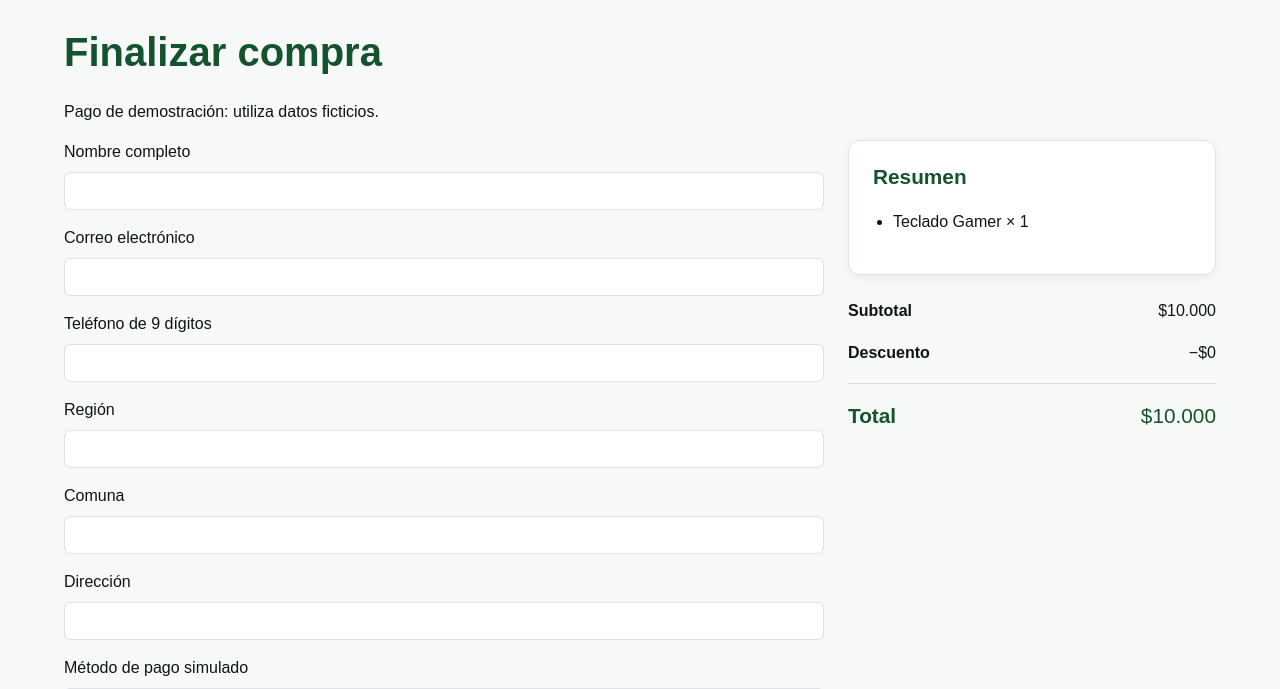
Test: Interfaz de Usuario - Componente Checkout › Debería mostrar mensajes de error cuando los formatos de correo y teléfono sean inválidos
In the field labelled "Correo electrónico": (444, 277) [64, 258, 824, 296], type "correo-invalido"
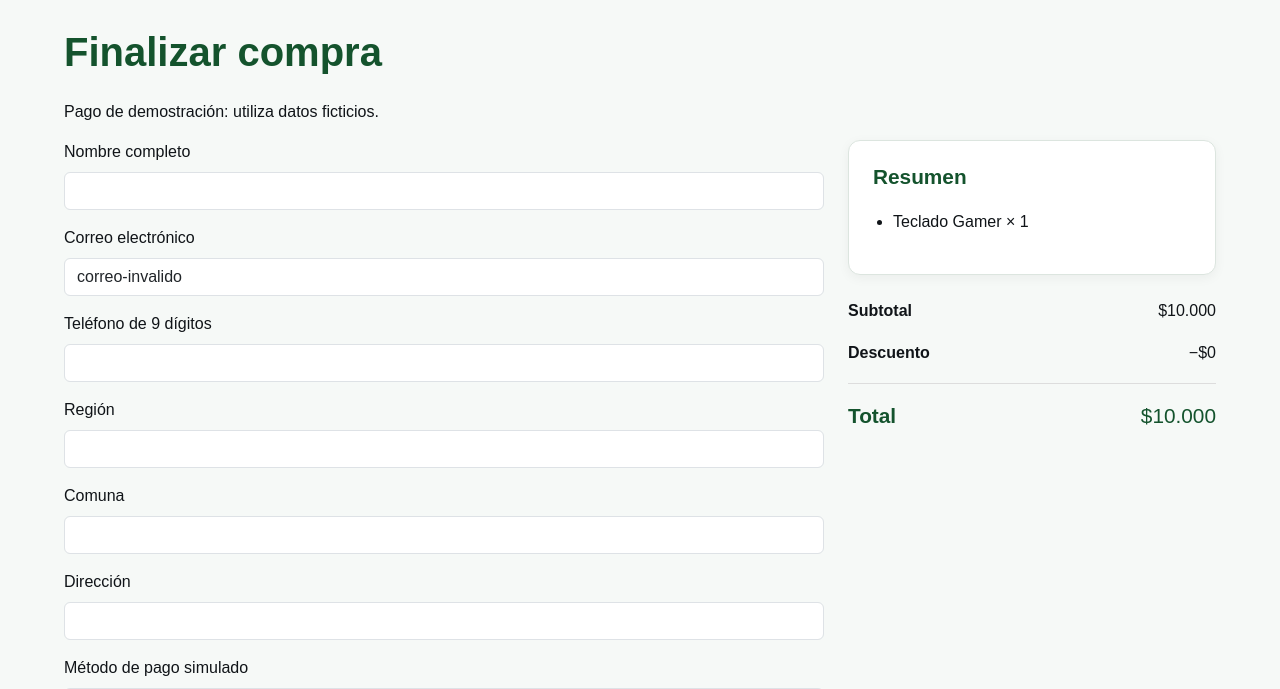
In the field labelled "Teléfono de 9 dígitos": (444, 363) [64, 344, 824, 382], type "123"
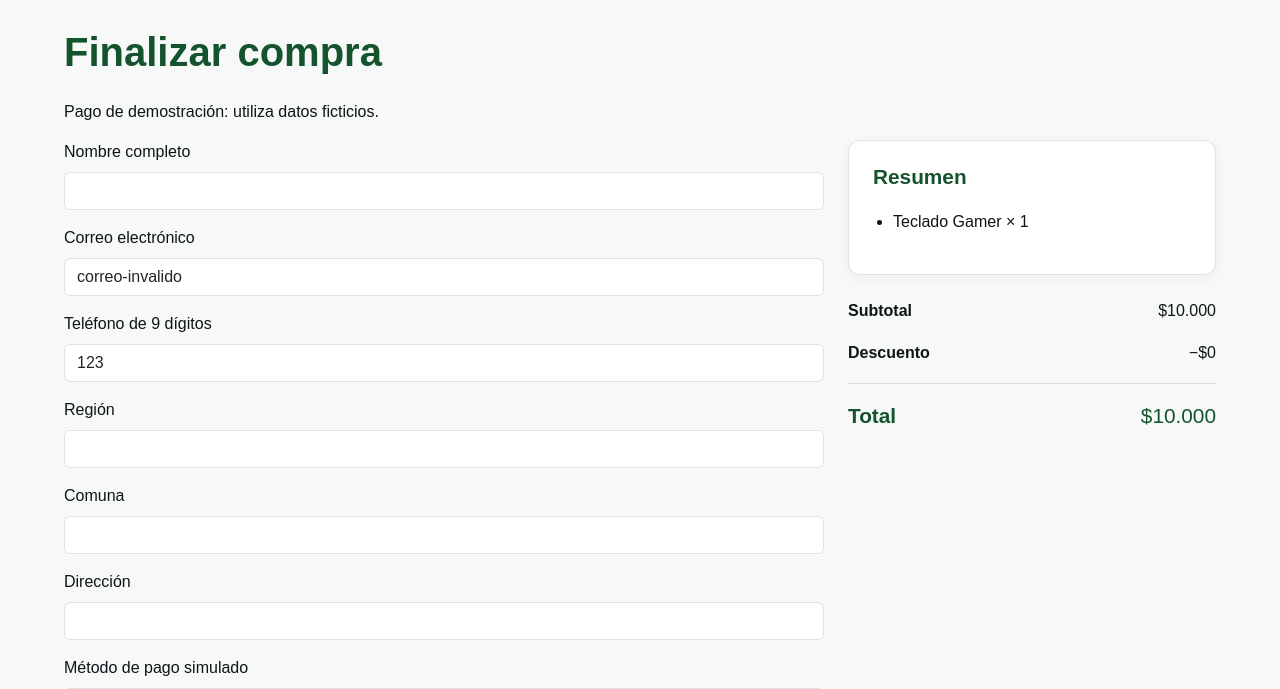
Note: Gatilla la visualización de errores mediante blur
Leave the field labelled "Correo electrónico", box [64, 258, 824, 296]
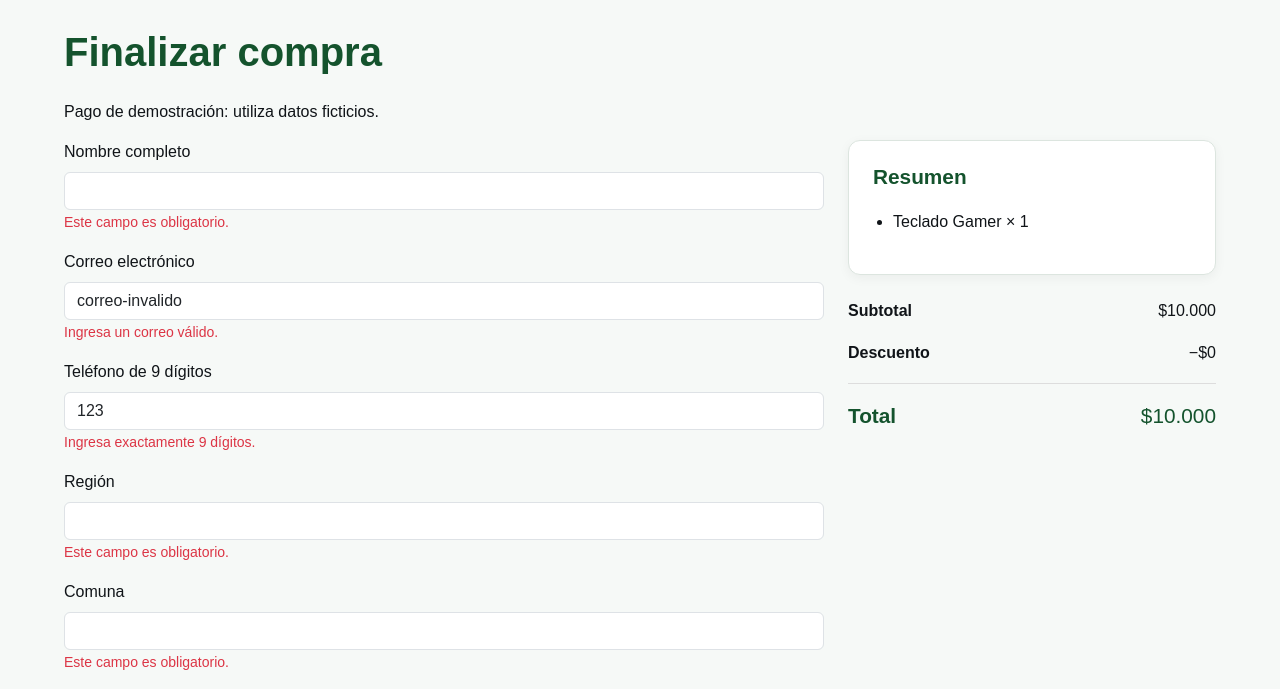
Check: the text "Ingresa un correo válido." is shown, box [64, 324, 218, 340]
Check: the text "Ingresa exactamente 9 dígitos." is shown, box [64, 434, 256, 450]
